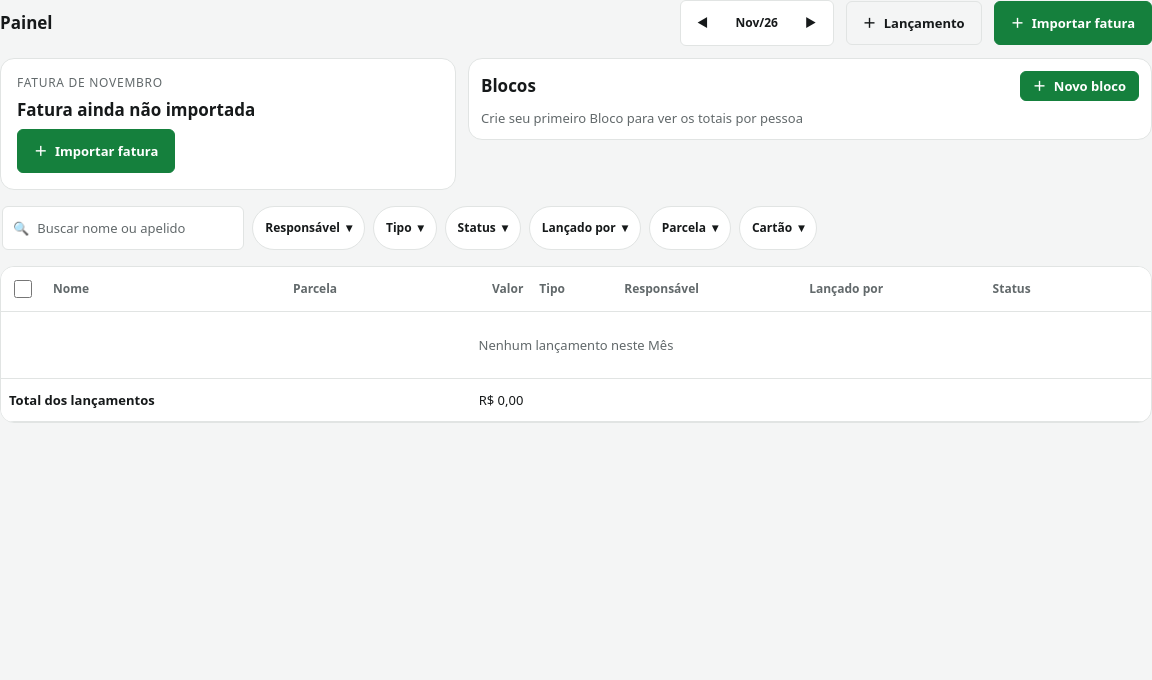
Test case: Painel do Mês › excluídos ficam fora da grade, do rodapé, da barra, da contagem e da conta do hero
This screenshot has width=1152, height=680.
Click the button named "Mês anterior".
click(703, 23)  # box [681,1,725,45]
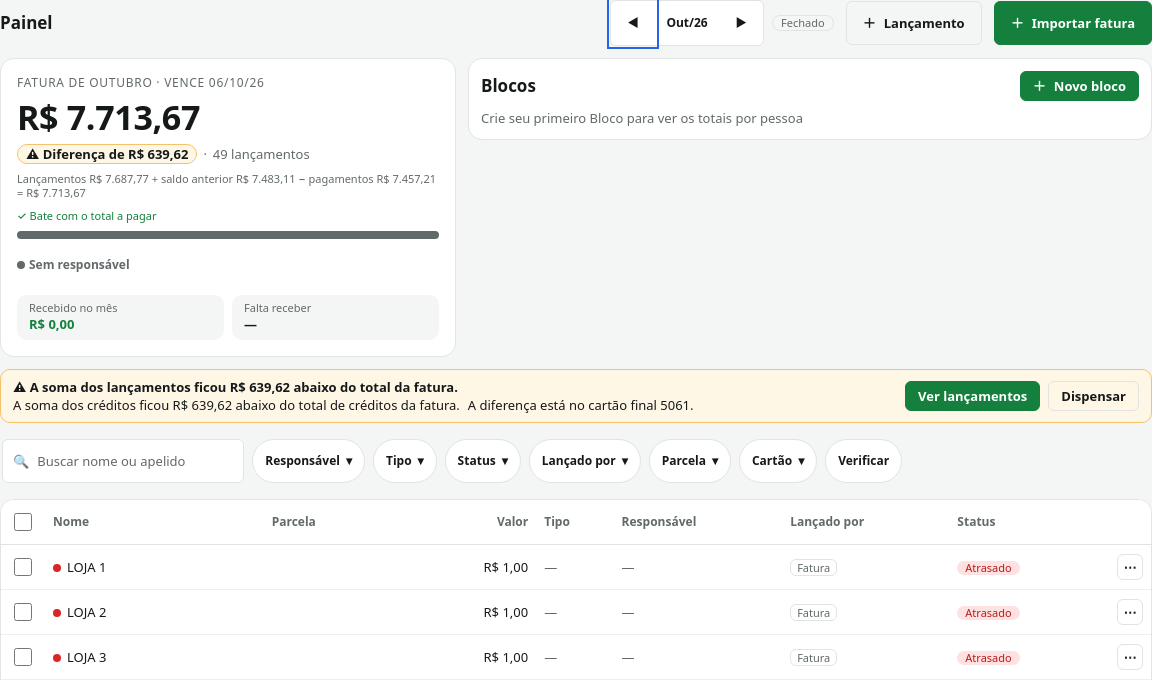
Expected: the text "49 lançamentos" is shown, [213,145,310,163]
Expected: the text "✓ Bate com o total a pagar" is shown, [17,208,156,223]
